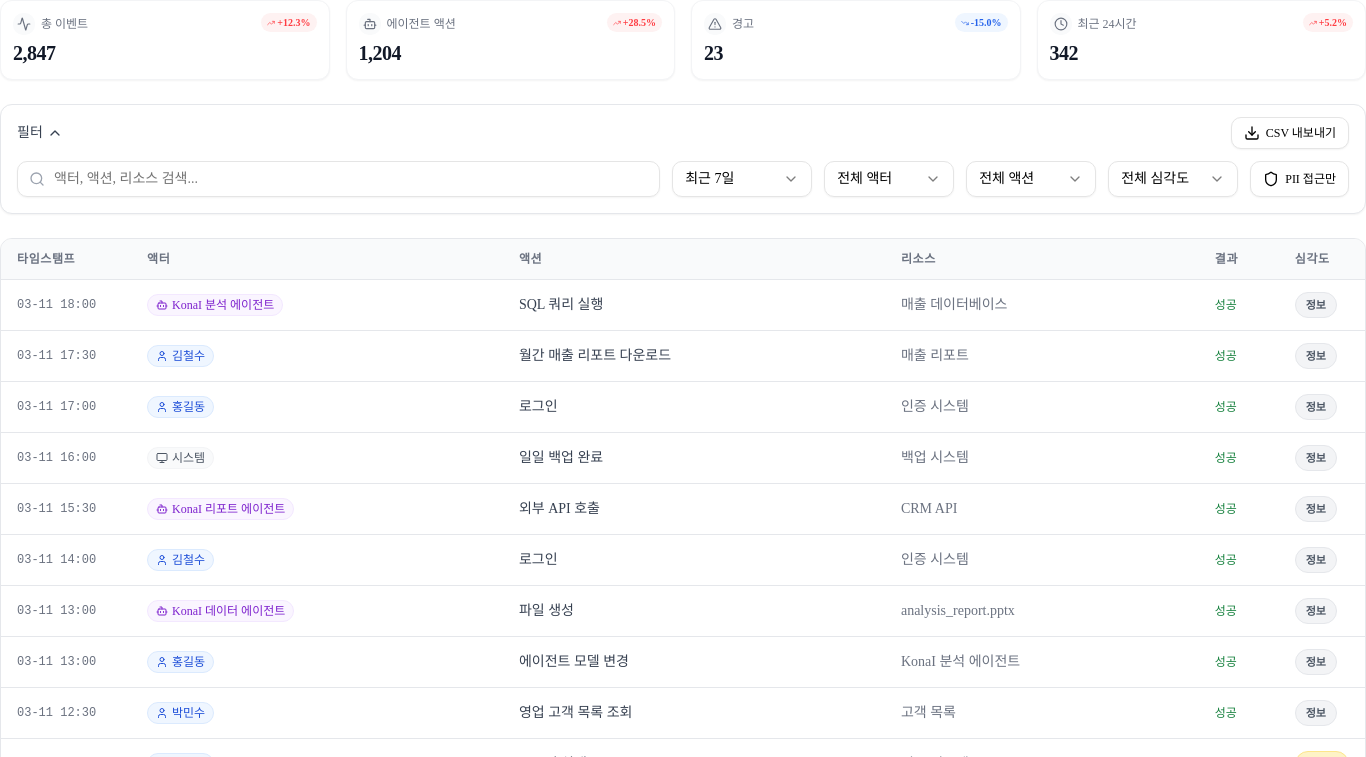
Scenario: 3.5-3. Terminal State Scenarios › search that eliminates all results -> clear -> results return
Expected: the button with aria-label "—" is shown, x1=1 y1=280 x2=1365 y2=330
# Type nonsense search term
Type "xyznonexistent99999zzz" into the field with placeholder "액터, 액션, 리소스 검색..." at (339, 179), box x1=17 y1=161 x2=660 y2=197
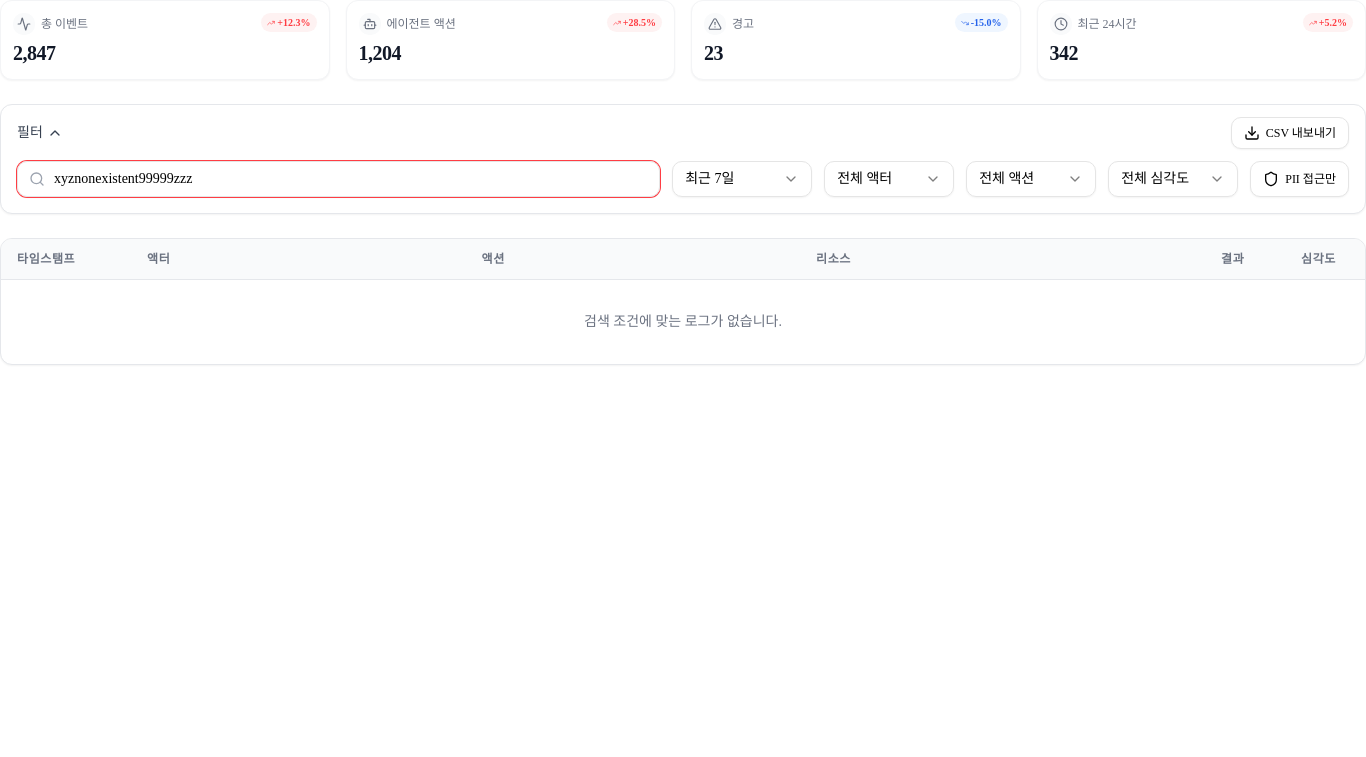
Expected: the text "검색 조건에 맞는 로그가 없습니다." is shown, x1=584 y1=314 x2=782 y2=329
# Clear search
Clear the field with placeholder "액터, 액션, 리소스 검색..." at (339, 179), box x1=17 y1=161 x2=660 y2=197
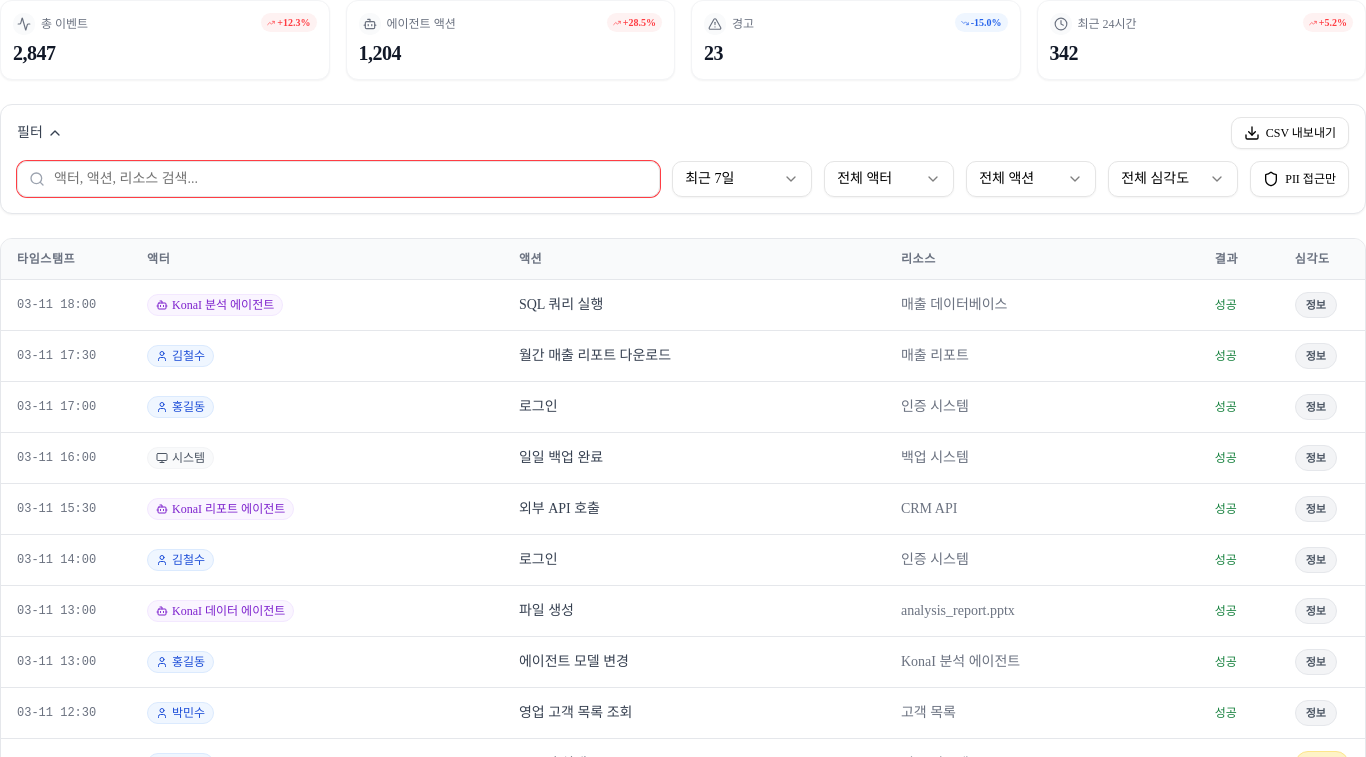
Expected: the number of buttons named "—" is 20
Expected: the text "검색 조건에 맞는 로그가 없습니다." is gone
